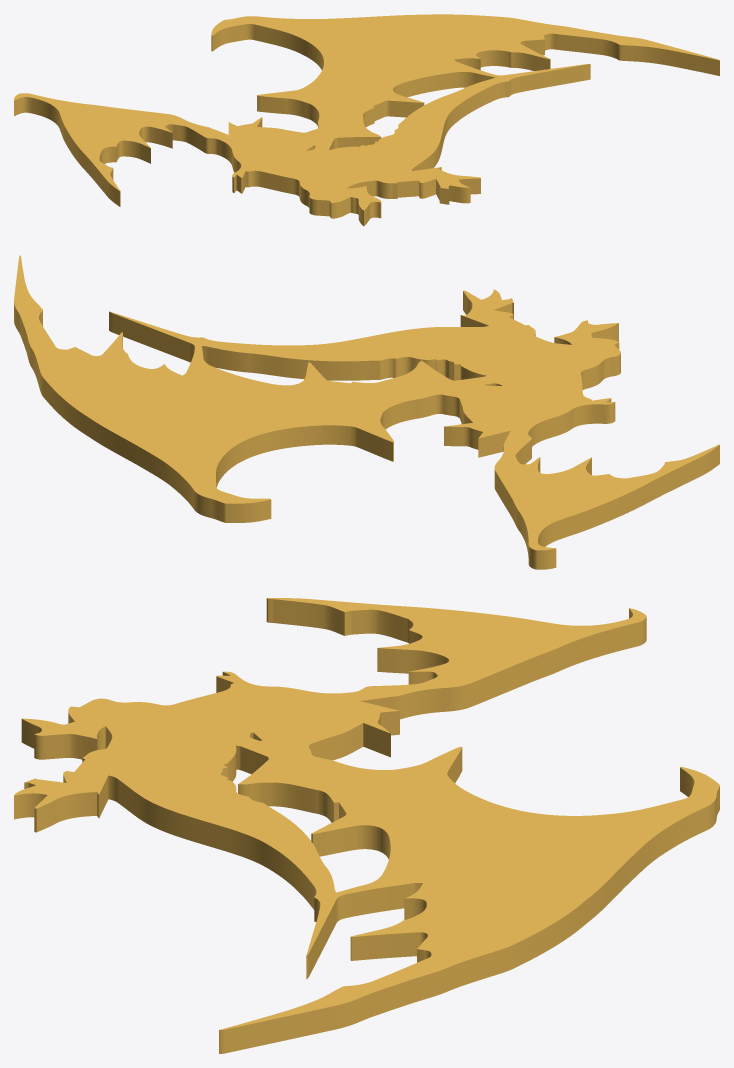
File: bahamut.FBX
The picture shows the model from 3 angles, top to bottom: view 1: azimuth 30°, elevation 25°; view 2: azimuth 150°, elevation 25°; view 3: azimuth 270°, elevation 25°; orthographic projection. The views are drawn at different scales.
Visible parts, largest first — view 1: bahamut; view 2: bahamut; view 3: bahamut.
Part boxes in pixels (left/top/right/bottom): bahamut: left=14, top=14, right=719, bottom=226; bahamut: left=14, top=255, right=719, bottom=569; bahamut: left=14, top=598, right=719, bottom=1053.
Size of the model in its own units: 765 by 19.69 by 528.
